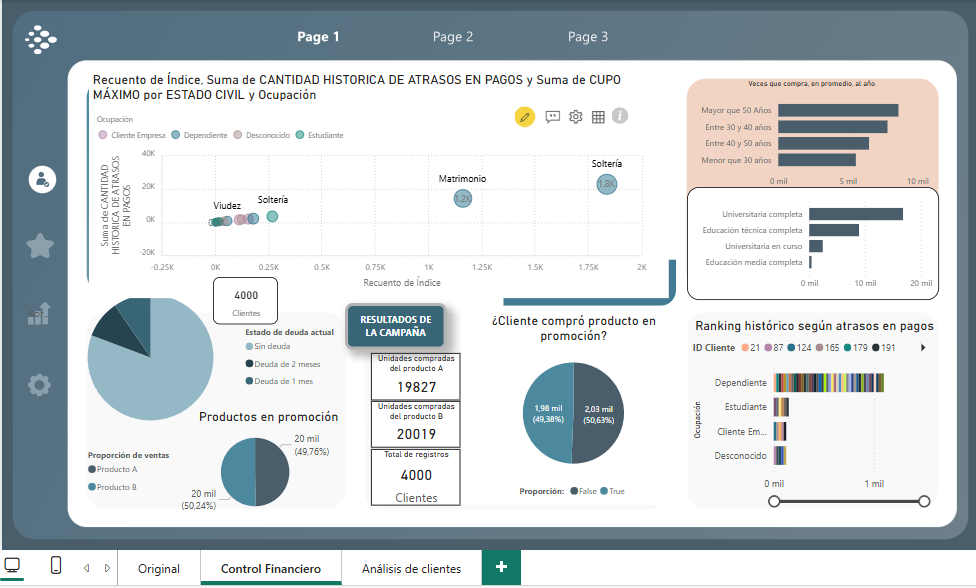

This screenshot's page, from the dashboard's own definition file:
{"tool":"powerbi","page":{"name":"Control Financiero","canvas":[1280,720],"ordinal":1},"visuals":[{"type":"actionButton","box":[33.8,214.5,38.2,41.1],"z":0},{"type":"actionButton","box":[30.9,301.2,38.2,41.1],"z":1000},{"type":"actionButton","box":[27.9,389.4,38.2,41.1],"z":2000},{"type":"actionButton","box":[29.4,483.4,38.2,41.1],"z":3000},{"type":"pieChart","title":"Productos en promoción","fields":{"Y":["Sum(Datos.UNIDADES COMPRADAS DEL PRODUCTO A)","Sum(Datos.UNIDADES COMPRADAS DEL PRODUCTO B)"]},"box":[107,536,338,146],"z":4000},{"type":"pieChart","title":"¿Cliente compró producto en promoción?","fields":{"Y":["CountNonNull(Datos.COMPRA PRODUCTO EN PROMOCIÓN)"],"Category":["Datos.COMPRA PRODUCTO EN PROMOCIÓN"]},"box":[600,410,297.8,251.1],"z":5000},{"type":"card","title":"Unidades compradas del producto A","fields":{"Values":["Sum(Datos.UNIDADES COMPRADAS DEL PRODUCTO A)"]},"box":[483.4,462.5,116.8,62.3],"z":6000},{"type":"card","title":"Unidades compradas del producto B","fields":{"Values":["Sum(Datos.UNIDADES COMPRADAS DEL PRODUCTO B)"]},"box":[483.4,524.8,116.8,60.7],"z":7000},{"type":"card","title":"Total de registros","fields":{"Values":["CountNonNull(Datos.COMPRA PRODUCTO EN PROMOCIÓN)"]},"box":[483.6,587.1,117.1,74.3],"z":8000},{"type":"textbox","box":[449.4,396.2,132.5,60.6],"z":9000},{"type":"textbox","box":[697.3,342.7,151.8,47.3],"z":10000},{"type":"textbox","box":[910.9,119.1,90,37.3],"z":11000},{"type":"textbox","box":[908.2,426.4,92.7,30.9],"z":12000},{"type":"textbox","box":[130,425.6,93.3,31.1],"z":13000},{"type":"image","box":[107.1,93.8,138.1,81],"z":14000},{"type":"pieChart","fields":{"Y":["CountNonNull(Datos.ESTADO ACTUAL)"],"Category":["Datos.ESTADO ACTUAL"]},"box":[66,360,379,216],"z":15000},{"type":"barChart","title":"Ranking histórico según atrasos en pagos","fields":{"Y":["Sum(Datos.CANTIDAD HISTORICA DE ATRASOS EN PAGOS)"],"Series":["Datos.Índice"],"Category":["Datos.Ocupación"]},"box":[898.9,416.7,325.6,251.1],"z":16000},{"type":"clusteredBarChart","title":"Veces que compra, en promedio, al año.","fields":{"Y":["Sum(Datos.VECES QUE COMPRA EN PROMEDIO AL AÑO)"],"Category":["Datos.RANGO ETARIO"]},"box":[903,104,315,151.5],"z":17000},{"type":"performanceBubbleChartFBAAA829CB604E5CAB4F21729F233294","fields":{"category":["Datos.ESTADO CIVIL"],"legend":["Datos.Ocupación"],"xmeasure":["Count(Datos.Índice)"],"zmeasure":["Sum(Datos.CUPO MÁXIMO)"],"ymeasure":["Sum(Datos.CANTIDAD HISTORICA DE ATRASOS EN PAGOS)"]},"box":[114.3,94.3,758.6,295.7],"z":18000},{"type":"card","fields":{"Values":["CountNonNull(Datos.Índice)"]},"box":[276.4,362.7,85.5,61.8],"z":19000},{"type":"clusteredBarChart","title":"Veces que compra en el año","fields":{"Y":["Sum(Datos.VECES QUE COMPRA EN PROMEDIO AL AÑO)"],"Category":["Datos.NIVEL EDUCACIONAL"]},"box":[897,244.5,330,147.5],"z":20000}]}

Visuals, with their boxes on the page's 1280x720 design canvas (x1, y1, x2, y2). These are canvas units, not pixel positions in the 976x588 screenshot, which may show the page scaled, cropped or inside an application window:
actionButton: l=34, t=214, r=72, b=256
actionButton: l=31, t=301, r=69, b=342
actionButton: l=28, t=389, r=66, b=430
actionButton: l=29, t=483, r=68, b=524
"Productos en promoción" pieChart: l=107, t=536, r=445, b=682
"¿Cliente compró producto en promoción?" pieChart: l=600, t=410, r=898, b=661
"Unidades compradas del producto A" card: l=483, t=462, r=600, b=525
"Unidades compradas del producto B" card: l=483, t=525, r=600, b=586
"Total de registros" card: l=484, t=587, r=601, b=661
textbox: l=449, t=396, r=582, b=457
textbox: l=697, t=343, r=849, b=390
textbox: l=911, t=119, r=1001, b=156
textbox: l=908, t=426, r=1001, b=457
textbox: l=130, t=426, r=223, b=457
image: l=107, t=94, r=245, b=175
pieChart - CountNonNull(Datos.ESTADO ACTUAL) x Datos.ESTADO ACTUAL: l=66, t=360, r=445, b=576
"Ranking histórico según atrasos en pagos" barChart: l=899, t=417, r=1224, b=668
"Veces que compra, en promedio, al año." clusteredBarChart: l=903, t=104, r=1218, b=256
performanceBubbleChartFBAAA829CB604E5CAB4F21729F233294 - Datos.ESTADO CIVIL x Datos.Ocupación: l=114, t=94, r=873, b=390
card - CountNonNull(Datos.Índice): l=276, t=363, r=362, b=424
"Veces que compra en el año" clusteredBarChart: l=897, t=244, r=1227, b=392
